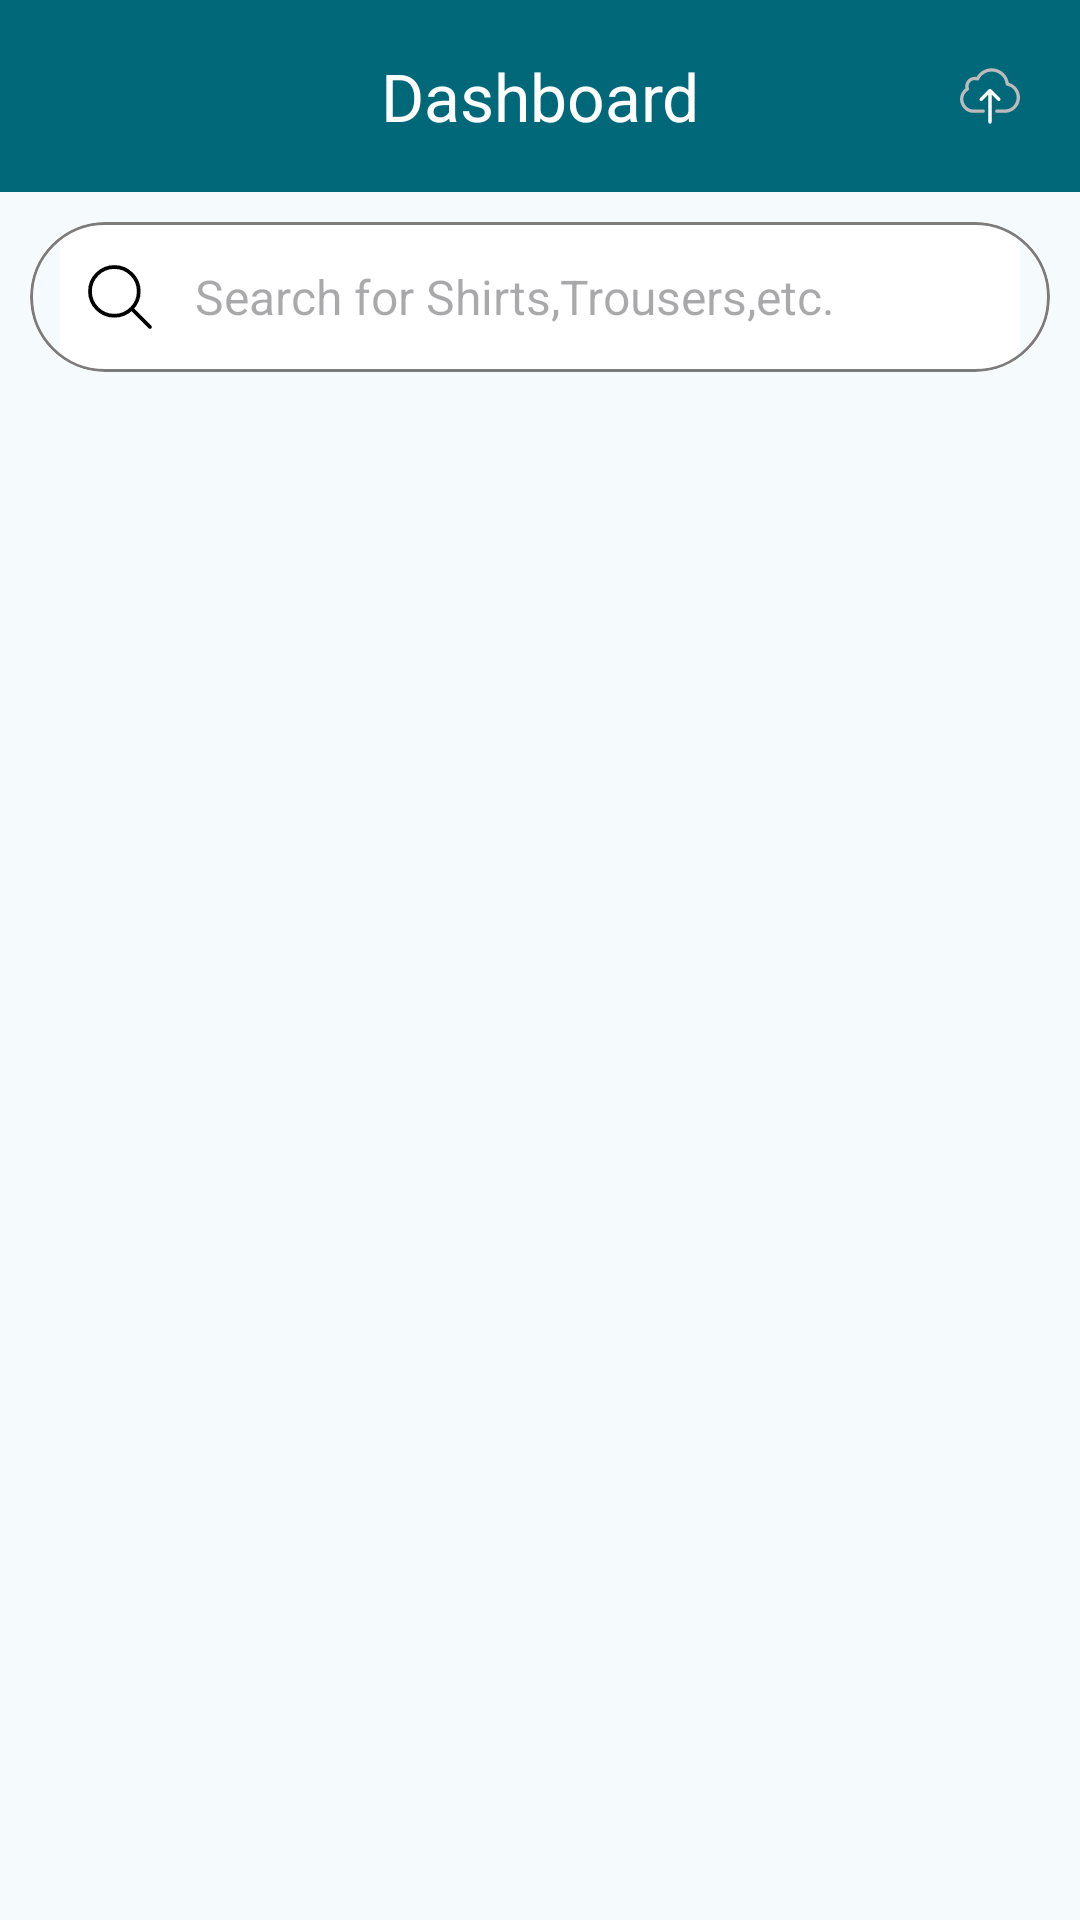

Where icons sit on this 1080w x 1920h app screen, as (x1, y1, x2, y2):
upload: (960, 68, 1020, 124)
